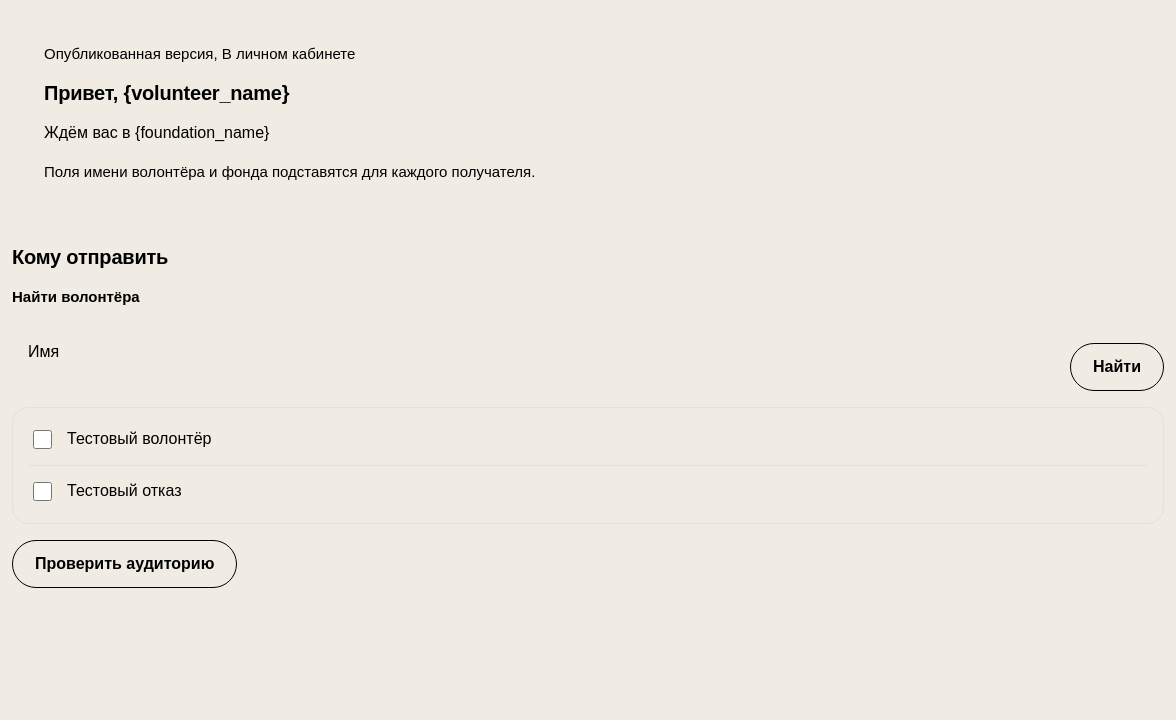
Test case: reviewed notification audience › previews without sending, confirms explicitly, and retries the same exact receipt after a network error
The width and height of the screenshot is (1176, 720).
Click the checkbox labelled "Тестовый волонтёр".
click(42, 439)  # box [33, 430, 52, 449]
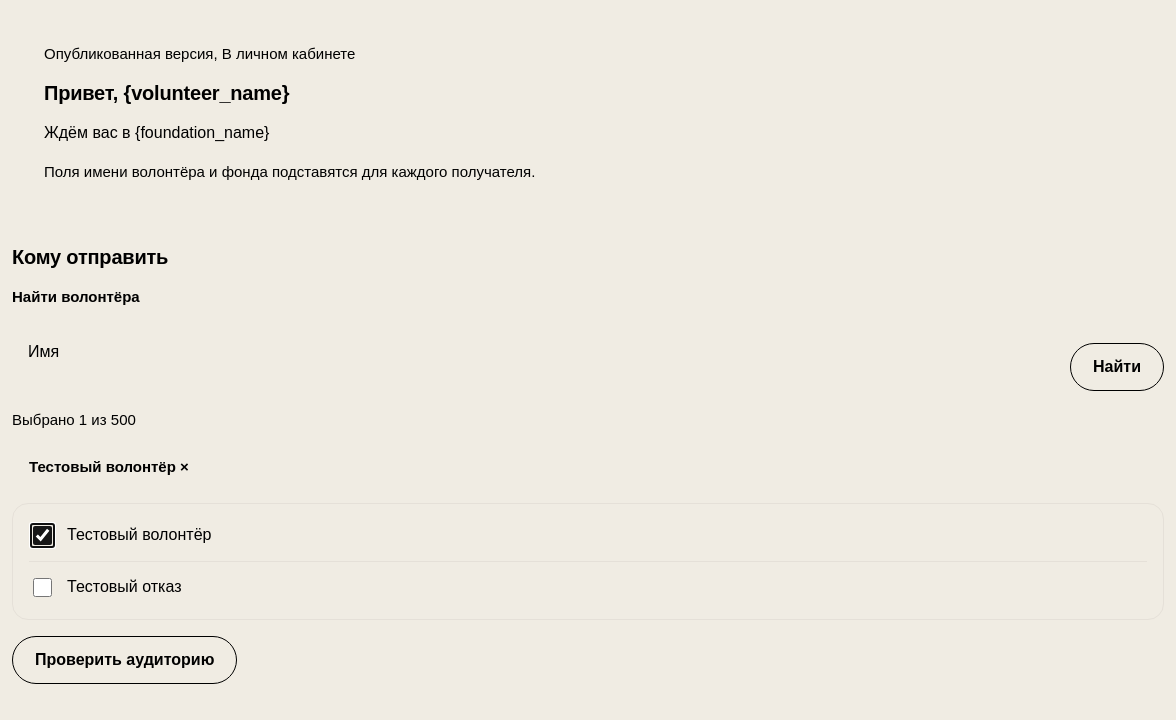
Click the button "Проверить аудиторию".
click(125, 660)  # box [12, 636, 237, 684]
(page scrolled)
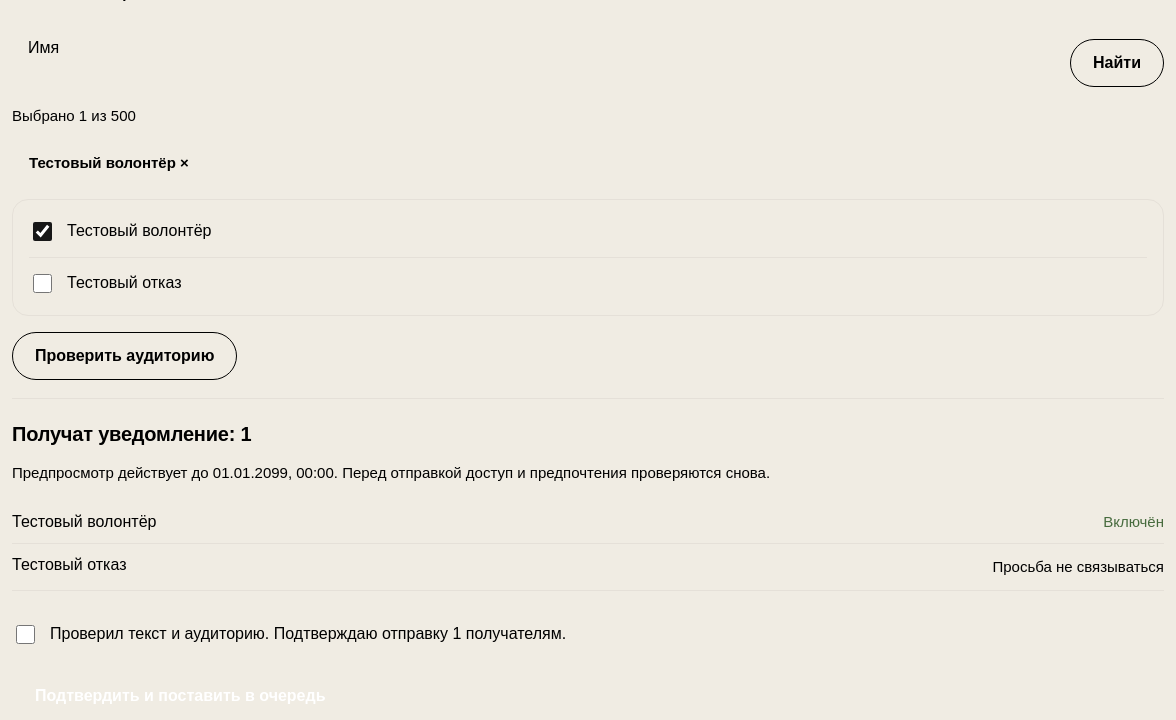
Now the heading "Получат уведомление: 1" is shown, box [12, 423, 252, 445]
Now the button "Подтвердить и поставить в очередь" is disabled, box [12, 672, 348, 719]
Now the text "Просьба не связываться" is shown, box [992, 556, 1164, 578]
Click the checkbox labelled "Проверил текст и аудиторию".
click(26, 635)  # box [16, 625, 35, 644]
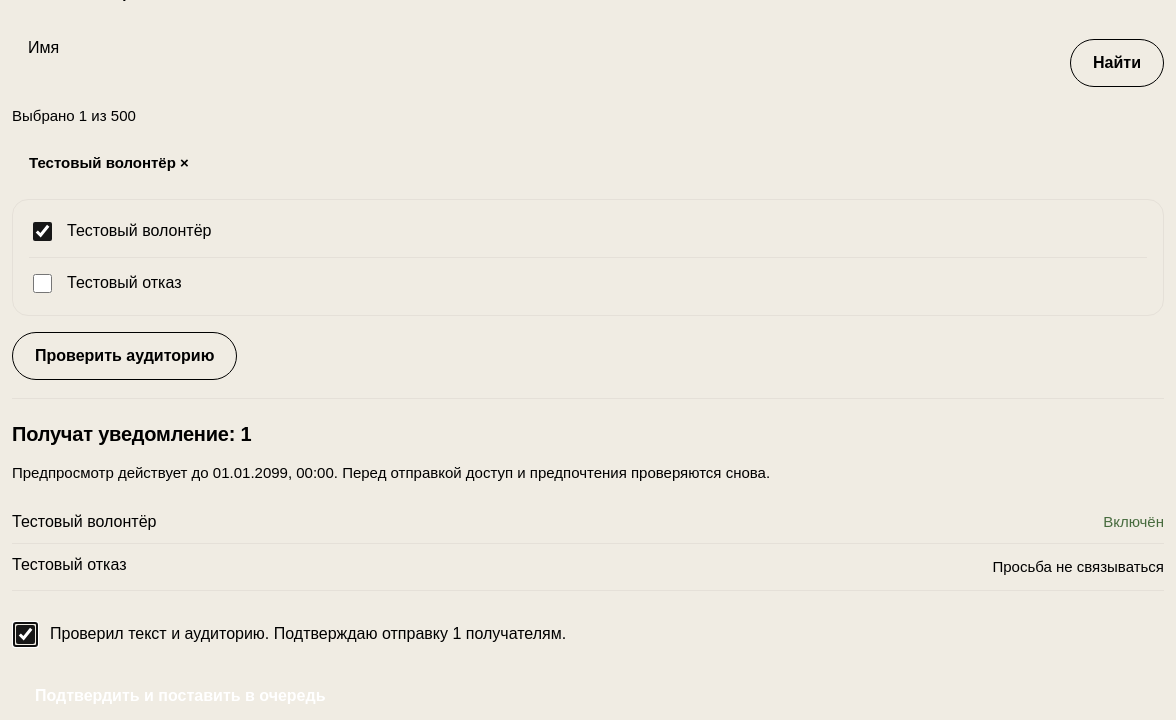
Click the button "Подтвердить и поставить в очередь".
click(180, 696)  # box [12, 672, 348, 719]
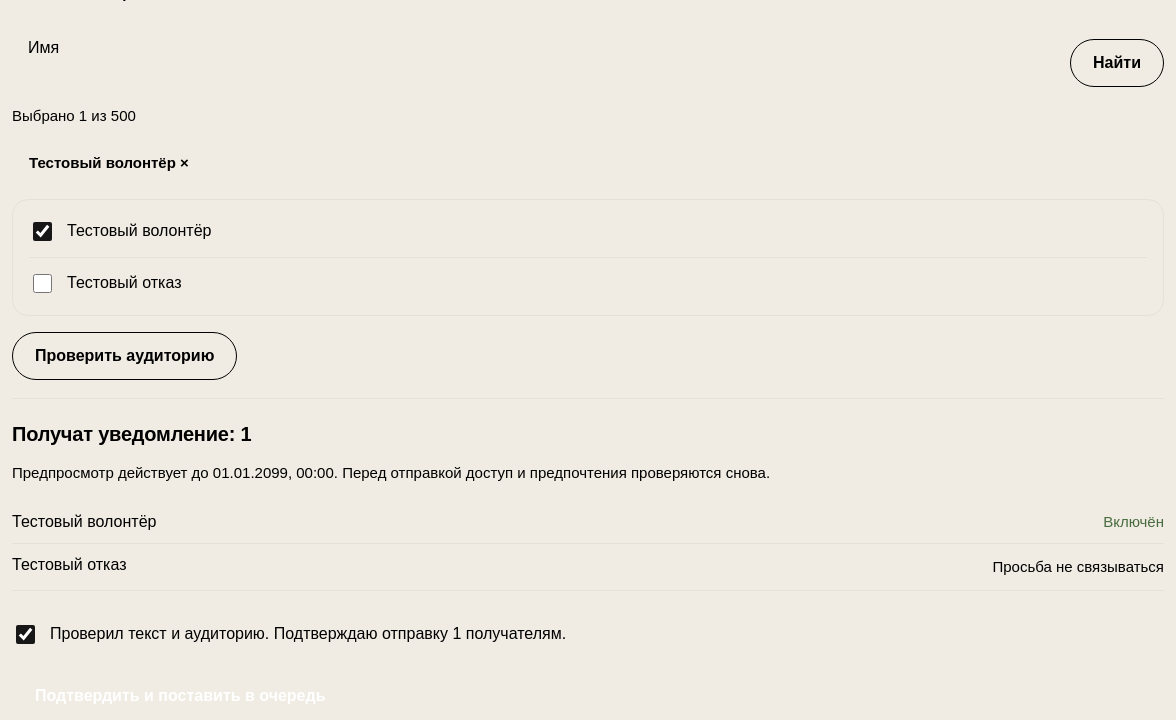
Click the button "Подтвердить и поставить в очередь".
click(180, 696)  # box [12, 672, 348, 719]
(page scrolled)
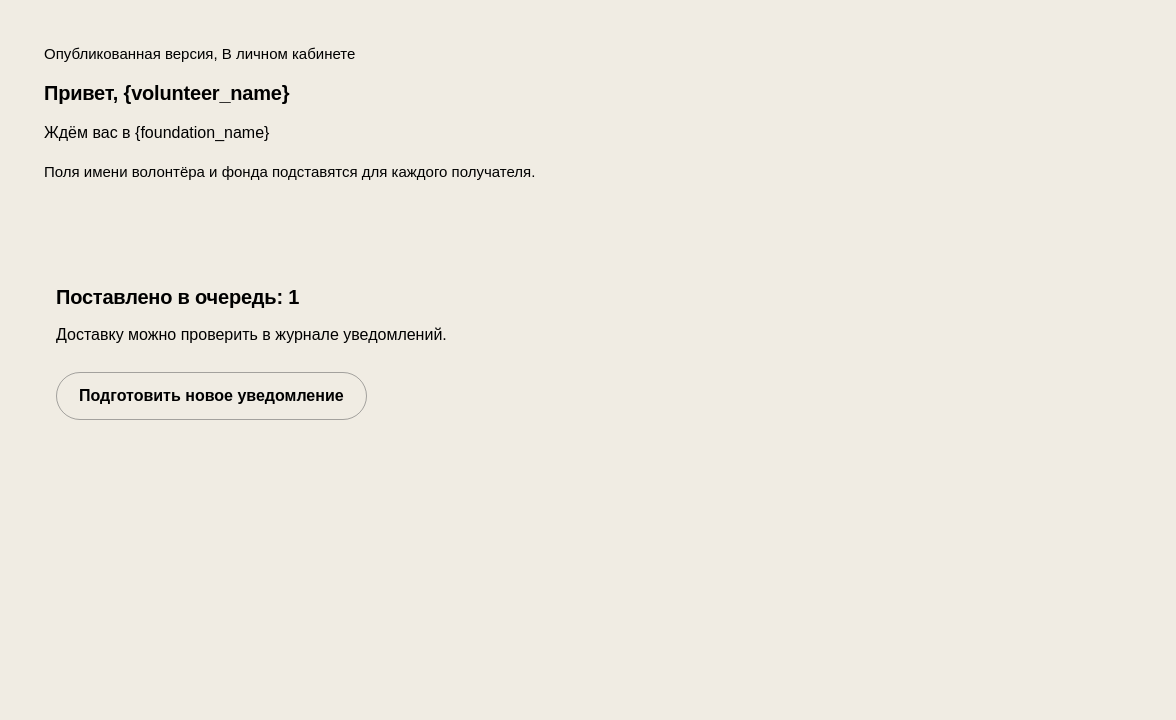
Now the heading "Поставлено в очередь: 1" is shown, box [56, 286, 299, 308]
